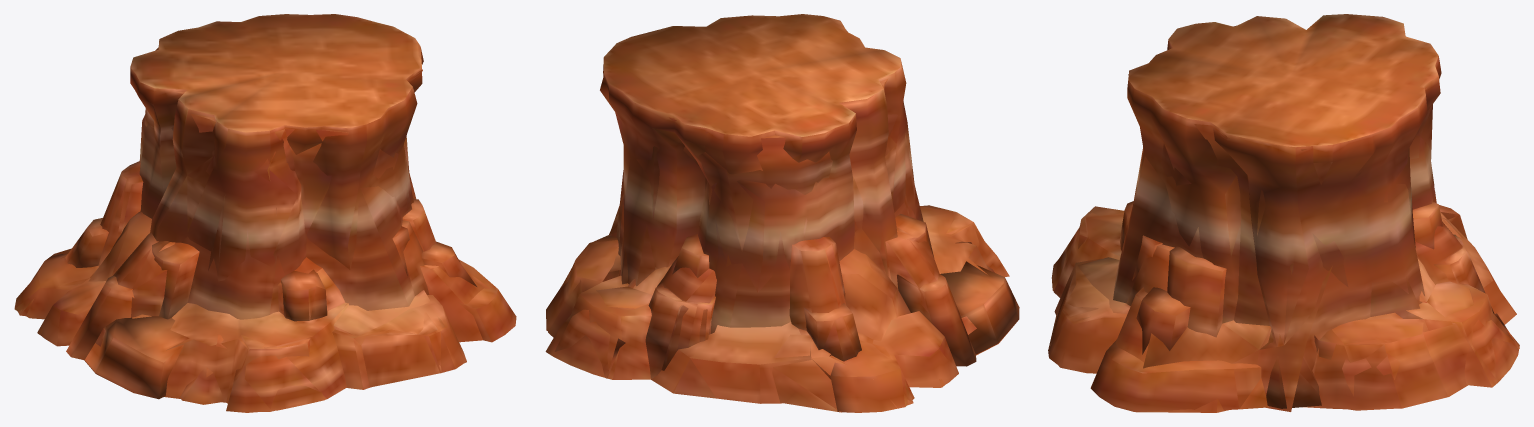
File: desert_hill_1_low.glb
3 renders of one model, left to right at view 1: azimuth 30°, elevation 25°; view 2: azimuth 150°, elevation 25°; view 3: azimuth 270°, elevation 25°, orthographic. The views are drawn at different scales.
Parts seen in each view (by area): view 1: Mesh_0.010; view 2: Mesh_0.010; view 3: Mesh_0.010.
Part boxes in pixels (left/top/right/bottom): Mesh_0.010: left=14, top=14, right=516, bottom=412; Mesh_0.010: left=545, top=14, right=1019, bottom=412; Mesh_0.010: left=1048, top=14, right=1519, bottom=412.
Size of the model in its own units: 0.998 by 0.5937 by 1.
Materials: 1 (1 with a texture image).
